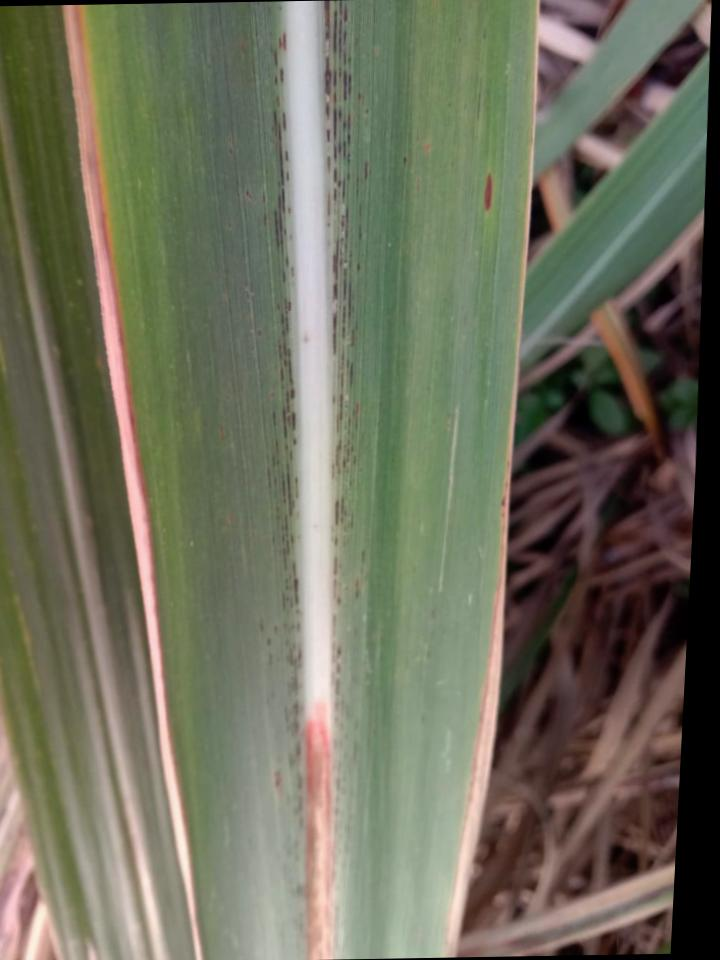RedRot: (305, 700, 331, 960)
Rust: (321, 1, 360, 548), (269, 296, 303, 619), (329, 549, 369, 823), (257, 616, 304, 830), (269, 28, 295, 250), (283, 254, 296, 285), (484, 174, 493, 212)
